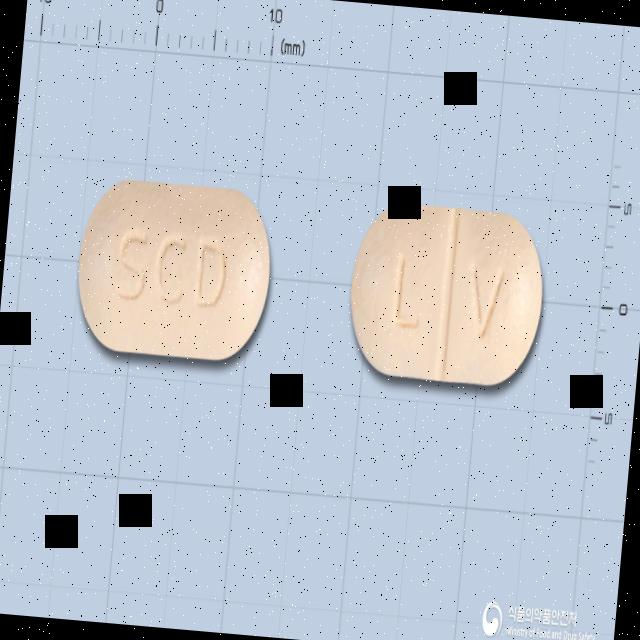Levostar: (72, 174, 278, 365), (343, 200, 549, 390)
